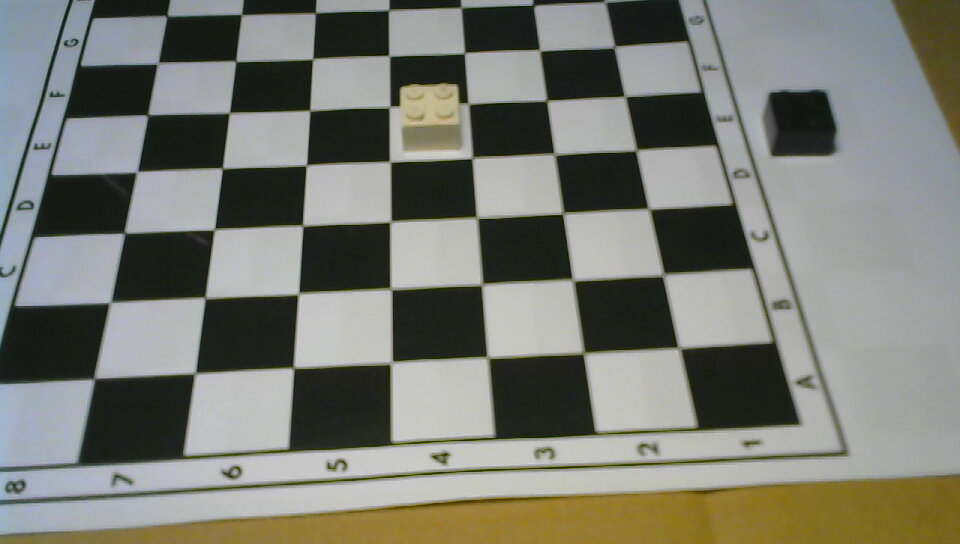bp: (763, 86, 838, 158)
wp: (398, 80, 462, 152)
